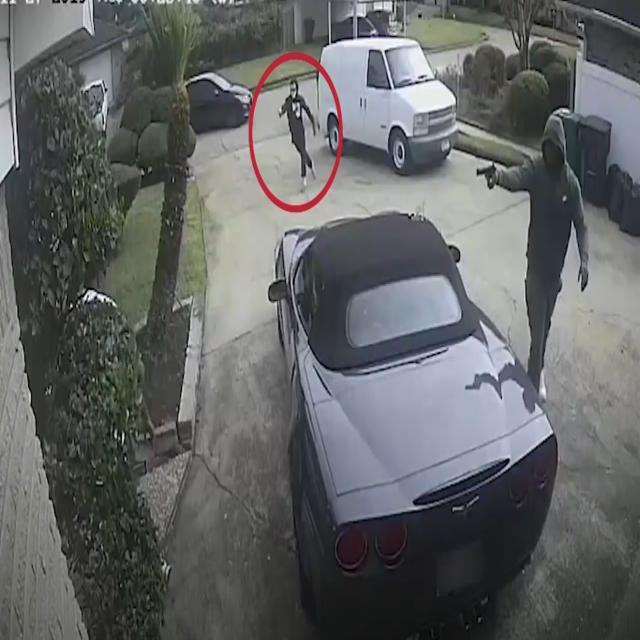pistol: (474, 162, 502, 195)
